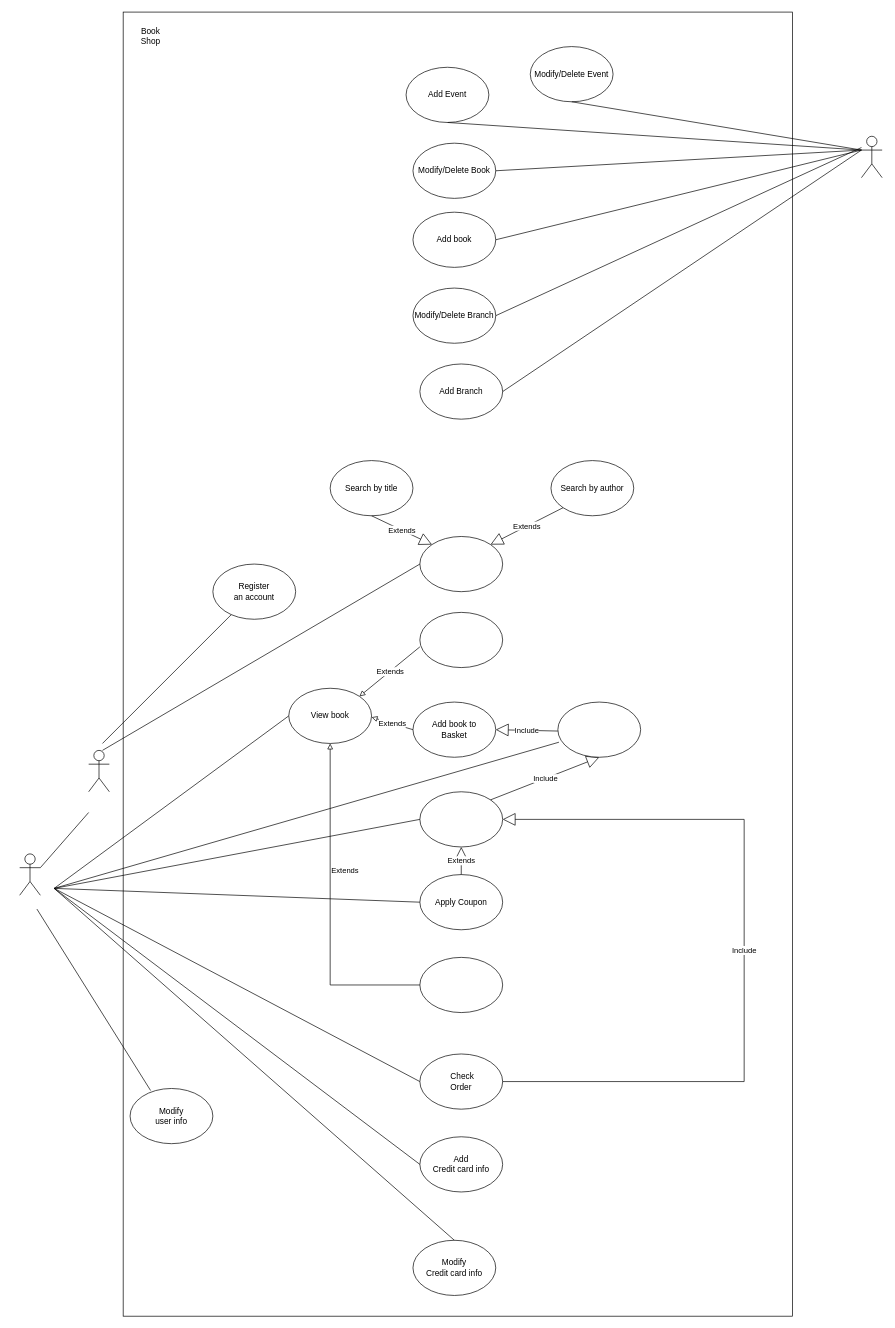
Image size: 895x1328. Some labels were removed from this diagram. The shapes that lost their labels are listed below. From the top down, each one's centre as x and y in pixels, then its label:
At point 871,157: "Admin".
At point 461,564: "Search Book".
At point 461,640: "Add rating".
At point 599,729: "Make Order".
At point 98,771: "Guest".
At point 461,819: "Make payment".
At point 29,874: "Customer".
At point 461,985: "Search Branch".
